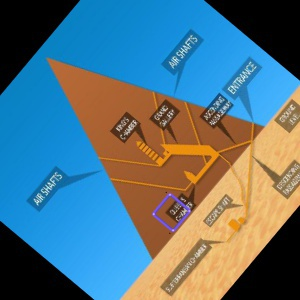square: (151, 192, 193, 233)
triangle: (46, 54, 267, 263)
